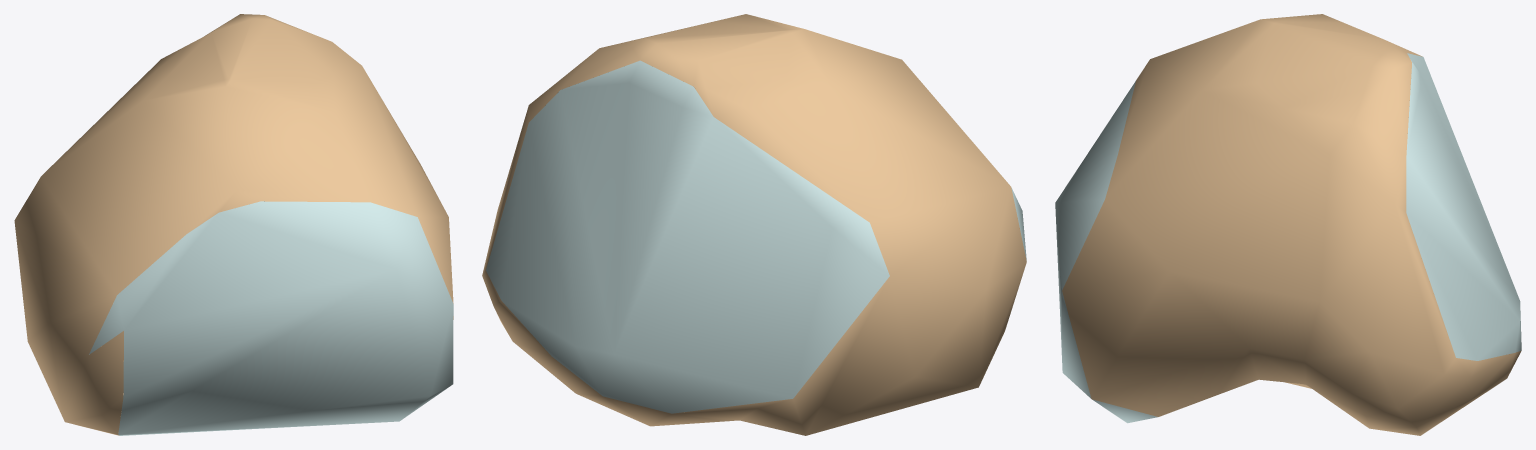
File: Middle_phalanx_of_5th_finger_of_foot.r_Generated_Mesh_From_X3D..glb
3 views of the same model, side by side, from view 1: azimuth 30°, elevation 25°; view 2: azimuth 150°, elevation 25°; view 3: azimuth 270°, elevation 25° (orthographic). The views are drawn at different scales.
Visible parts, largest first — view 1: Middle_phalanx_of_5th_finger_of_foot.r_Generated_Mesh_From_X; view 2: Middle_phalanx_of_5th_finger_of_foot.r_Generated_Mesh_From_X; view 3: Middle_phalanx_of_5th_finger_of_foot.r_Generated_Mesh_From_X.
Boxes of the visible parts, bbox=[...] form: Middle_phalanx_of_5th_finger_of_foot.r_Generated_Mesh_From_X: bbox=[14, 14, 453, 435]; Middle_phalanx_of_5th_finger_of_foot.r_Generated_Mesh_From_X: bbox=[482, 14, 1026, 435]; Middle_phalanx_of_5th_finger_of_foot.r_Generated_Mesh_From_X: bbox=[1055, 14, 1521, 435].
Bounding box in the file's own units: 0.0086 × 0.0066 × 0.00779.
